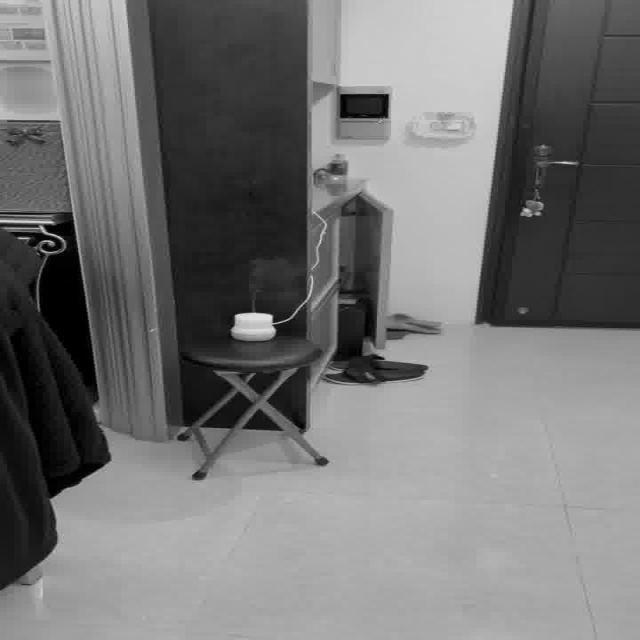fire: (239, 252, 301, 302)
